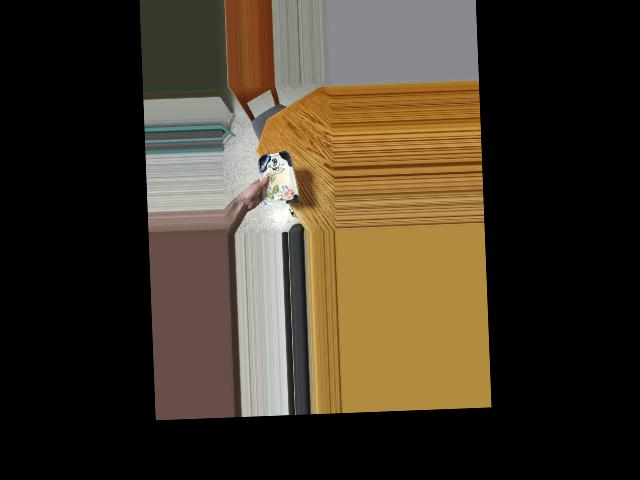cheese: (251, 152, 300, 205)
